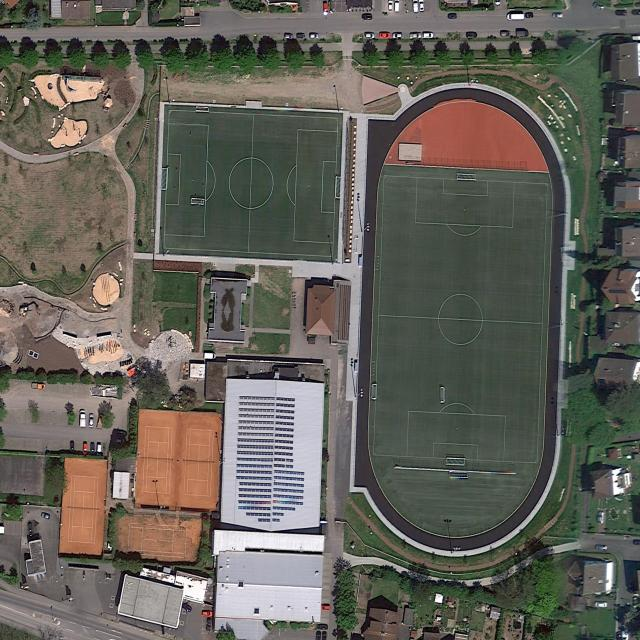large-vehicle: (507, 13, 525, 20), (79, 410, 86, 428), (31, 382, 46, 389)
small-vehicle: (96, 415, 104, 430), (181, 603, 192, 613), (593, 1, 604, 11), (27, 522, 34, 537), (204, 352, 217, 360), (597, 511, 605, 524), (40, 511, 51, 520), (515, 30, 529, 37), (595, 600, 607, 608), (466, 31, 477, 39), (410, 32, 421, 39), (615, 9, 626, 16), (379, 32, 391, 38), (626, 127, 638, 133), (202, 610, 212, 617), (423, 32, 434, 38), (364, 33, 375, 39), (96, 445, 102, 456), (596, 545, 607, 551), (413, 0, 418, 13), (89, 414, 94, 427), (394, 0, 399, 12), (309, 33, 319, 39), (90, 443, 95, 455), (317, 623, 327, 629), (392, 33, 403, 38), (553, 13, 564, 18), (500, 31, 511, 36), (361, 14, 372, 19), (117, 430, 126, 436), (284, 33, 293, 39), (321, 605, 330, 611), (324, 2, 328, 15), (388, 0, 393, 10), (84, 443, 88, 455), (116, 438, 125, 443), (296, 33, 305, 38), (526, 13, 534, 18), (448, 14, 457, 18), (71, 442, 74, 453)
